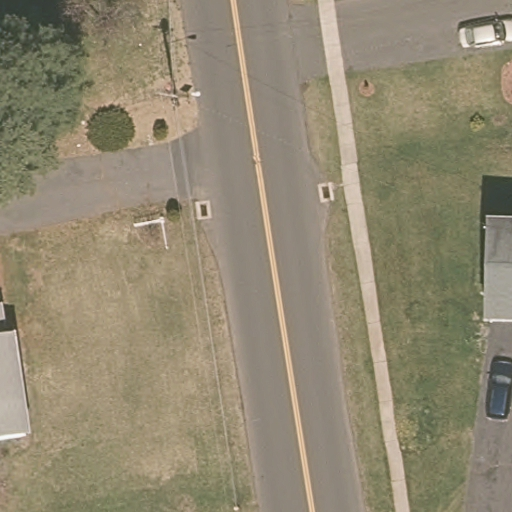DT: (157, 87, 202, 104)
